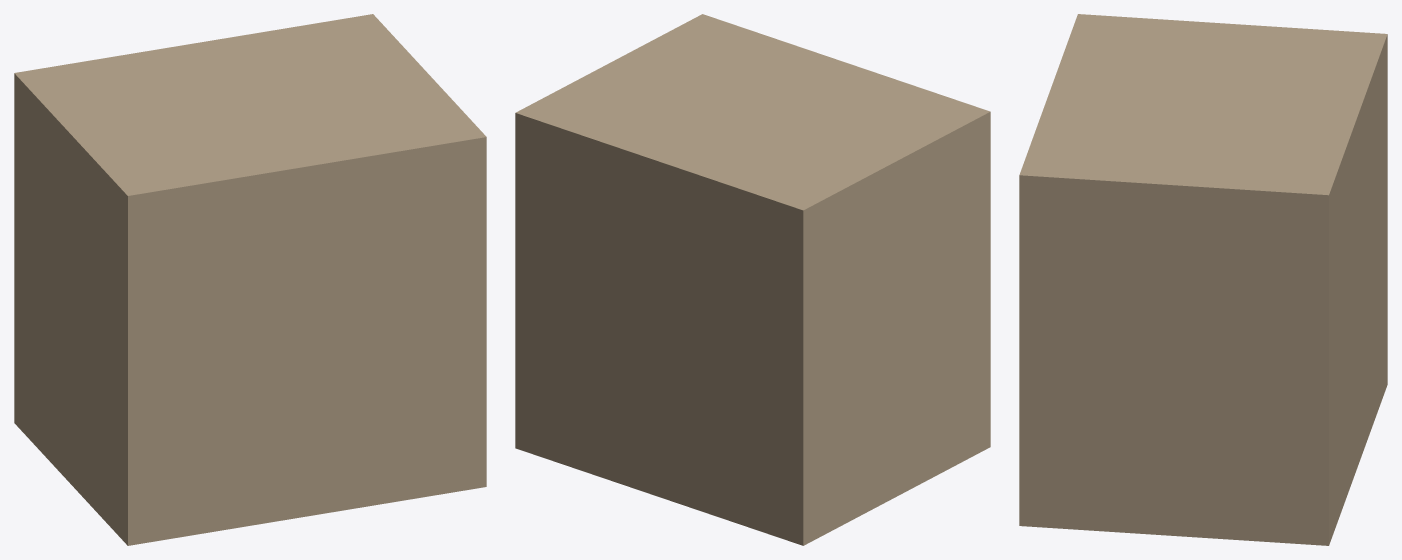
Rendered from bld_101245956.dae.
3 views of the same model, side by side, from view 1: azimuth 30°, elevation 25°; view 2: azimuth 150°, elevation 25°; view 3: azimuth 270°, elevation 25° (orthographic). The views are drawn at different scales.
Visible parts, largest first — view 1: bld_101245956; view 2: bld_101245956; view 3: bld_101245956.
Boxes of the visible parts, x1,y1,x2,y2 form: bld_101245956: (14, 14, 486, 545); bld_101245956: (515, 14, 990, 545); bld_101245956: (1019, 14, 1387, 545).
Bounding box in the file's own units: 8.86 × 7.61 × 8.
